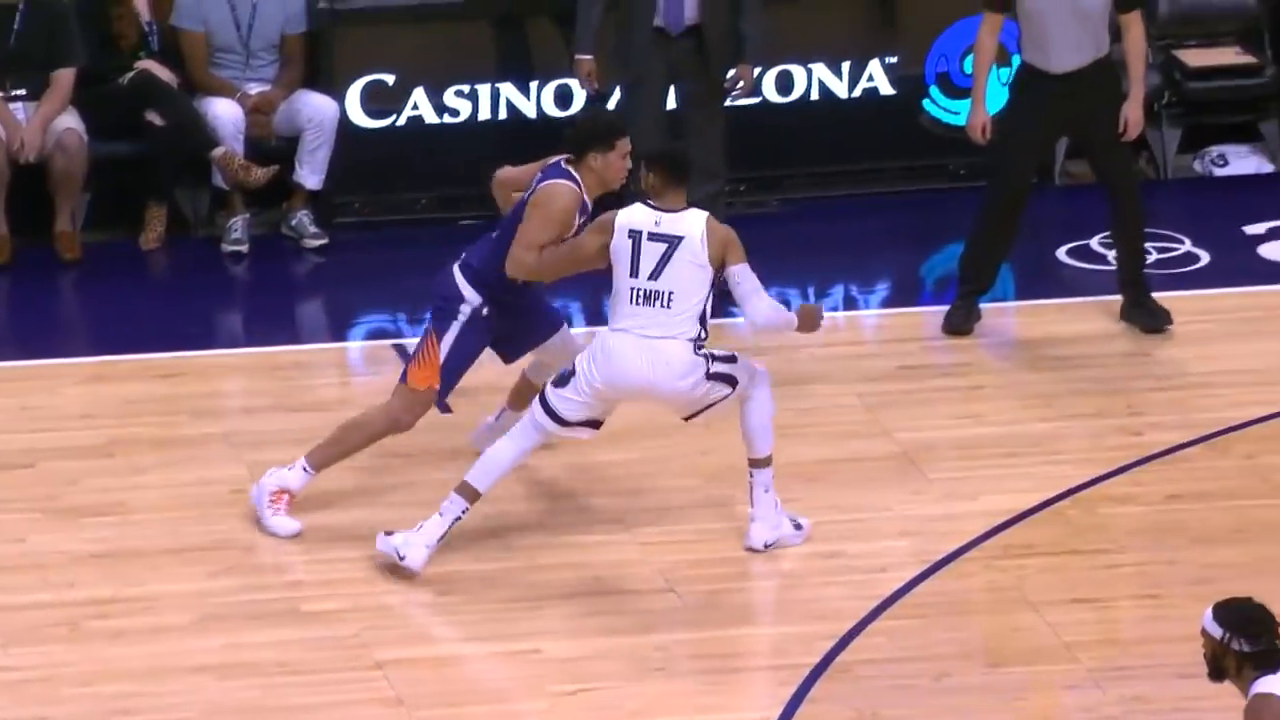ball: (510, 194, 523, 209)
